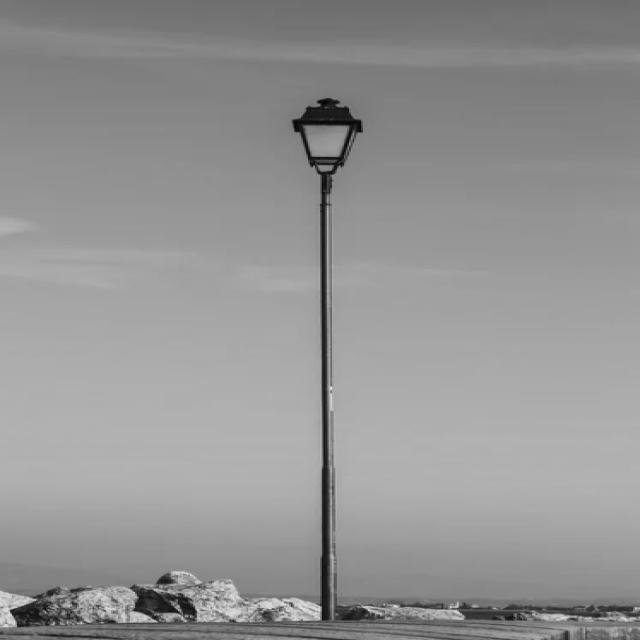Pole: (292, 98, 362, 622)
